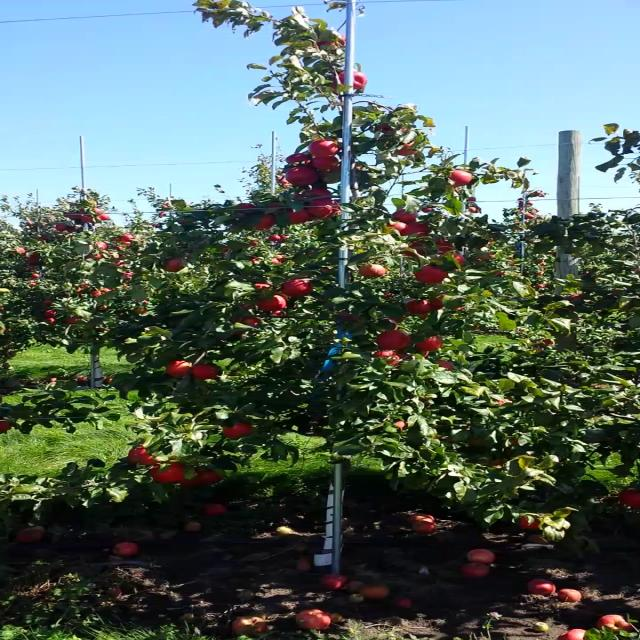apple: (149, 463, 184, 482), (309, 198, 342, 218), (334, 69, 366, 89), (128, 445, 160, 465), (402, 232, 428, 256), (286, 167, 318, 186), (282, 279, 314, 297), (378, 331, 410, 349), (416, 266, 446, 284), (308, 140, 338, 156), (223, 423, 252, 439), (448, 169, 473, 187), (257, 296, 284, 312), (316, 165, 341, 182), (618, 488, 639, 508), (167, 360, 190, 378), (415, 336, 444, 350), (406, 300, 434, 314), (311, 156, 338, 170), (316, 35, 346, 47), (254, 214, 276, 230), (431, 239, 453, 255), (403, 222, 428, 236), (393, 140, 416, 155), (192, 365, 216, 379), (163, 256, 184, 272), (516, 516, 540, 530), (288, 209, 310, 224), (360, 264, 387, 276), (387, 354, 414, 366), (285, 153, 311, 164), (198, 471, 220, 484), (394, 210, 416, 222), (388, 222, 406, 235), (304, 188, 332, 196), (180, 475, 202, 485), (240, 317, 261, 327), (386, 317, 400, 331), (341, 310, 358, 321), (437, 360, 455, 370), (432, 294, 444, 308), (495, 398, 516, 406), (370, 351, 394, 357), (290, 194, 313, 200), (393, 420, 406, 430), (378, 125, 394, 133), (454, 253, 463, 265), (252, 283, 270, 289), (235, 204, 257, 208), (267, 202, 281, 208), (424, 351, 429, 358)
